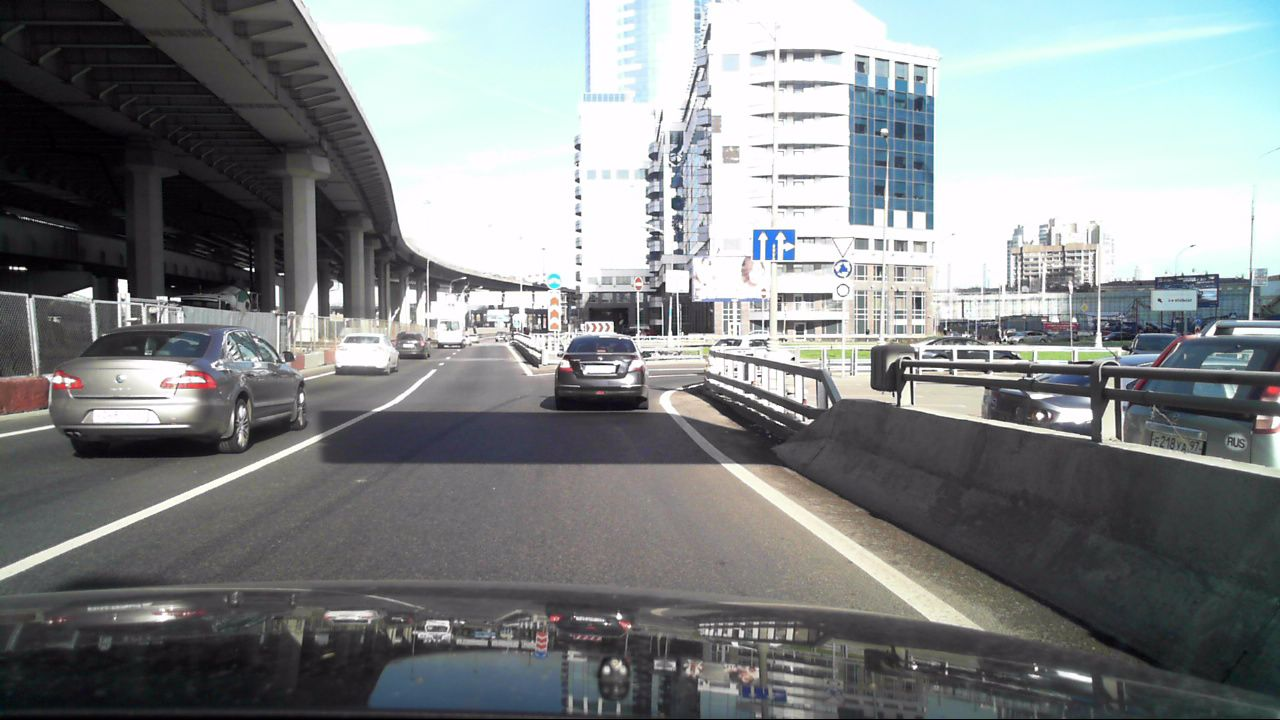Round-About: (832, 258, 853, 280)
